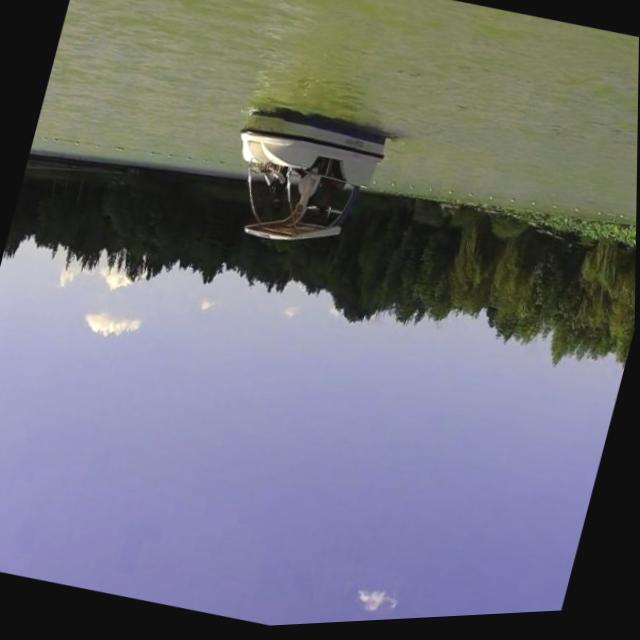ship2: (240, 117, 386, 242)
